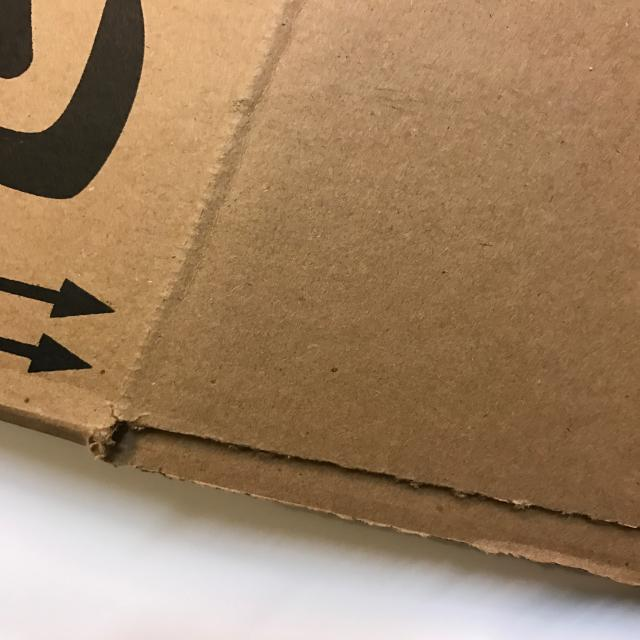cardboard: (2, 2, 640, 603)
